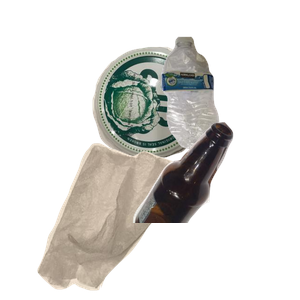glass: (130, 120, 300, 300)
metal: (90, 44, 289, 195)
plastic: (159, 34, 300, 176)
trash: (35, 140, 203, 300)
